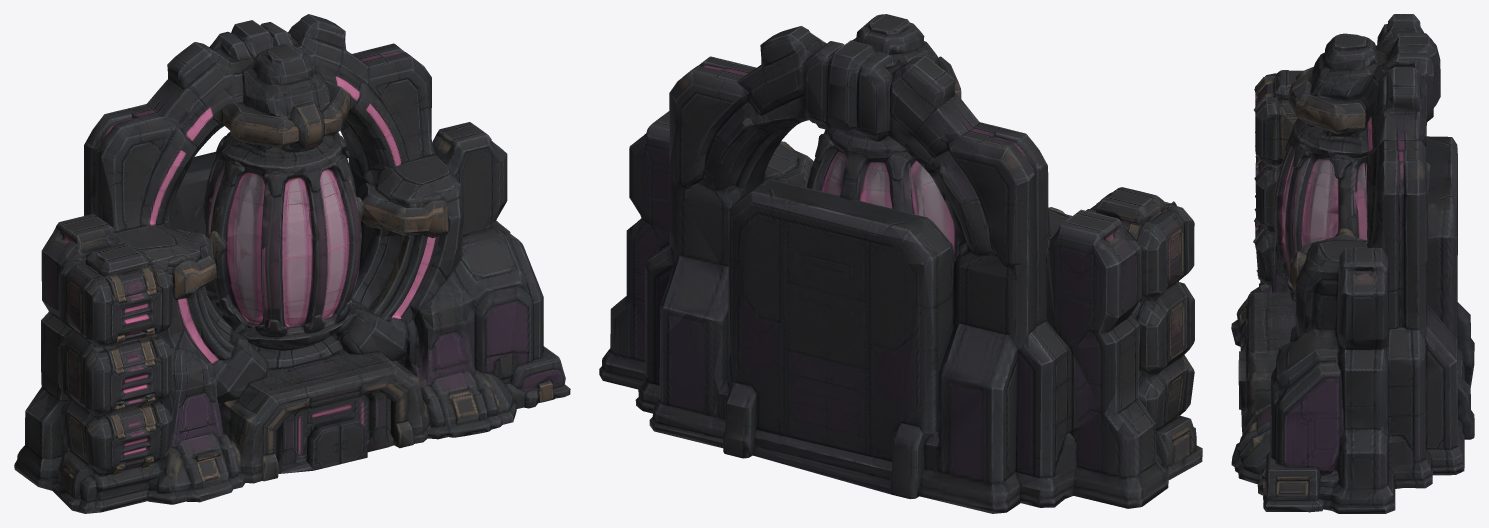
Rendered from crucible.glb.
3 renders of one model, left to right at view 1: azimuth 30°, elevation 25°; view 2: azimuth 150°, elevation 25°; view 3: azimuth 270°, elevation 25°, orthographic. The views are drawn at different scales.
Visible parts, largest first — view 1: mesh_node; view 2: mesh_node; view 3: mesh_node.
Part boxes in pixels (x1,y1,x2,y2): mesh_node: (14, 14, 570, 513); mesh_node: (599, 14, 1202, 513); mesh_node: (1231, 14, 1474, 513).
Size of the model in its own units: 2 by 1.42 by 0.8747.
Materials: 1 (1 with a texture image).
